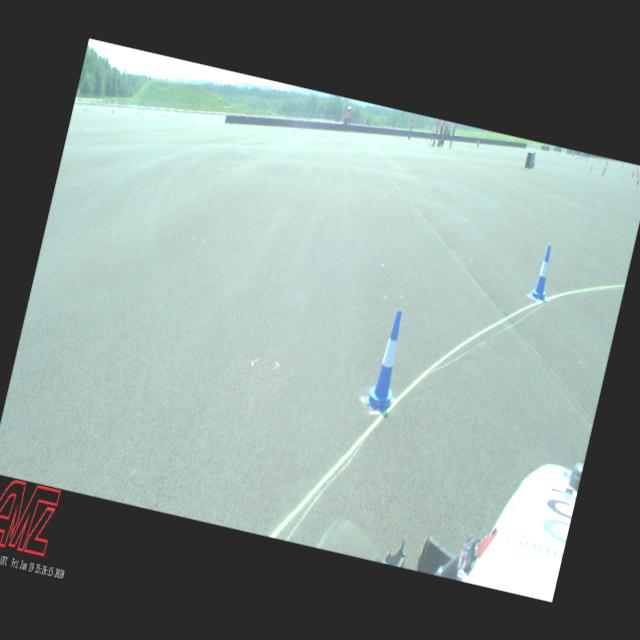blue_cone: (362, 306, 414, 414), (528, 242, 558, 302)
